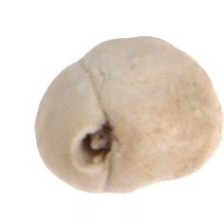L3: (70, 114, 118, 170)
L4: (34, 35, 221, 193)
